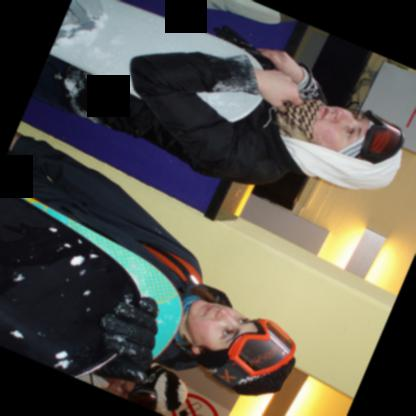backpack: (137, 240, 202, 286), (157, 351, 197, 371)
